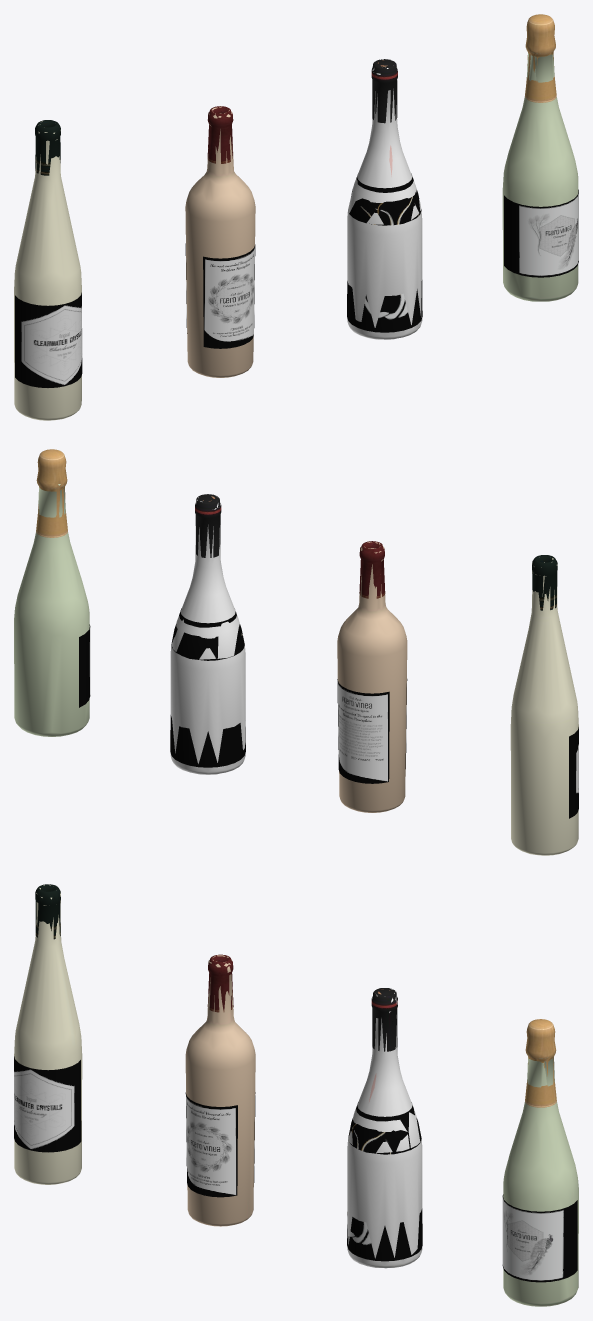
File: wine_bottles_01.glb
The picture shows the model from 3 angles, top to bottom: view 1: azimuth 30°, elevation 25°; view 2: azimuth 150°, elevation 25°; view 3: azimuth 330°, elevation 25°; orthographic projection.
Parts seen in each view (by area): view 1: wine_bottles_01_bordeaux, wine_bottles_01_alsace, wine_bottles_01_champagne, wine_bottles_01_burgundy; view 2: wine_bottles_01_bordeaux, wine_bottles_01_burgundy, wine_bottles_01_champagne, wine_bottles_01_alsace; view 3: wine_bottles_01_bordeaux, wine_bottles_01_alsace, wine_bottles_01_champagne, wine_bottles_01_burgundy.
Boxes of the visible parts, box(x1,y1,x2,y2) form: wine_bottles_01_bordeaux: box(14, 14, 578, 420); wine_bottles_01_alsace: box(15, 292, 82, 387); wine_bottles_01_champagne: box(504, 189, 578, 277); wine_bottles_01_burgundy: box(347, 146, 422, 332); wine_bottles_01_bordeaux: box(14, 449, 578, 855); wine_bottles_01_burgundy: box(170, 608, 245, 767); wine_bottles_01_champagne: box(79, 624, 90, 707); wine_bottles_01_alsace: box(569, 727, 578, 818); wine_bottles_01_bordeaux: box(14, 884, 578, 1306); wine_bottles_01_alsace: box(14, 1056, 81, 1152); wine_bottles_01_champagne: box(502, 1194, 577, 1282); wine_bottles_01_burgundy: box(347, 1075, 422, 1261).
Size of the model in its own units: 0.6763 by 0.3314 by 0.0805.
9 materials, 6 textured.
